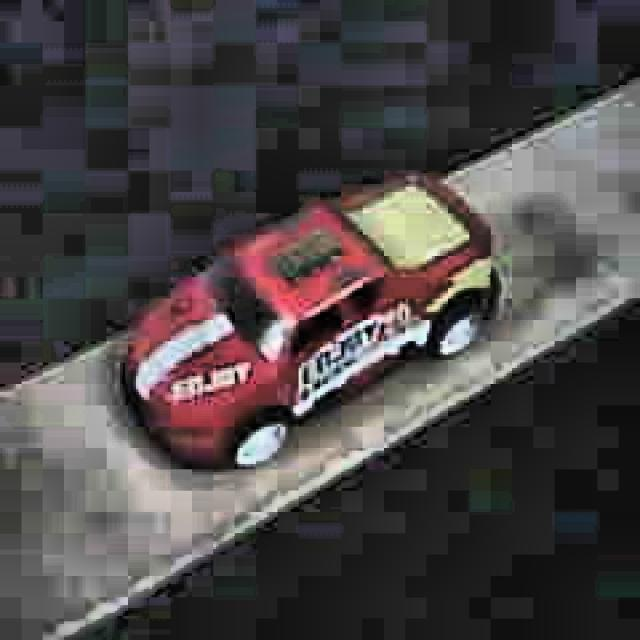car: (117, 168, 502, 476)
